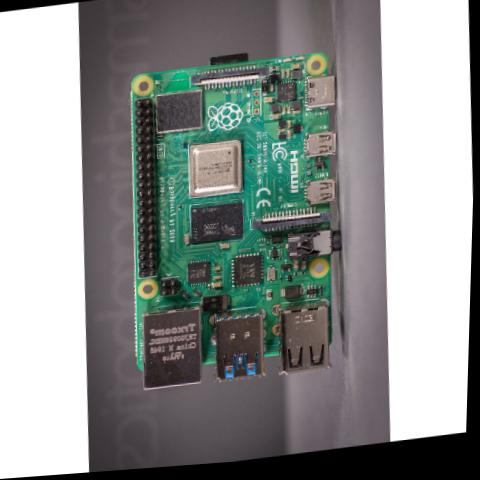Raspberry-Pi-4-Model-B: (115, 43, 360, 402)
